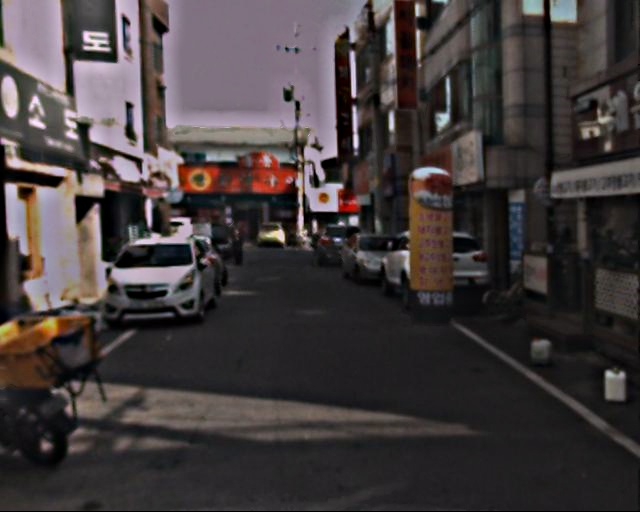person: (227, 221, 249, 267)
